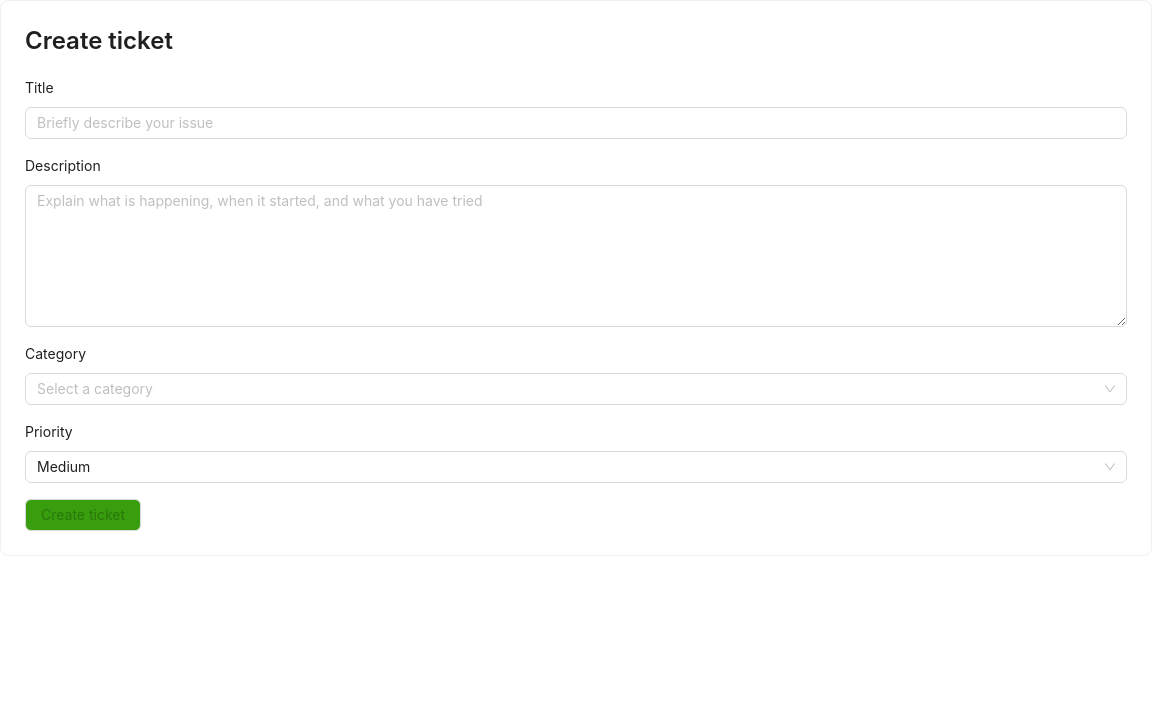
Test case: CreateTicketPage › shows a visible error when submission fails
Type "No imprime" into the field named "Title" at {"x": 576, "y": 123}, box x1=25 y1=107 x2=1127 y2=139
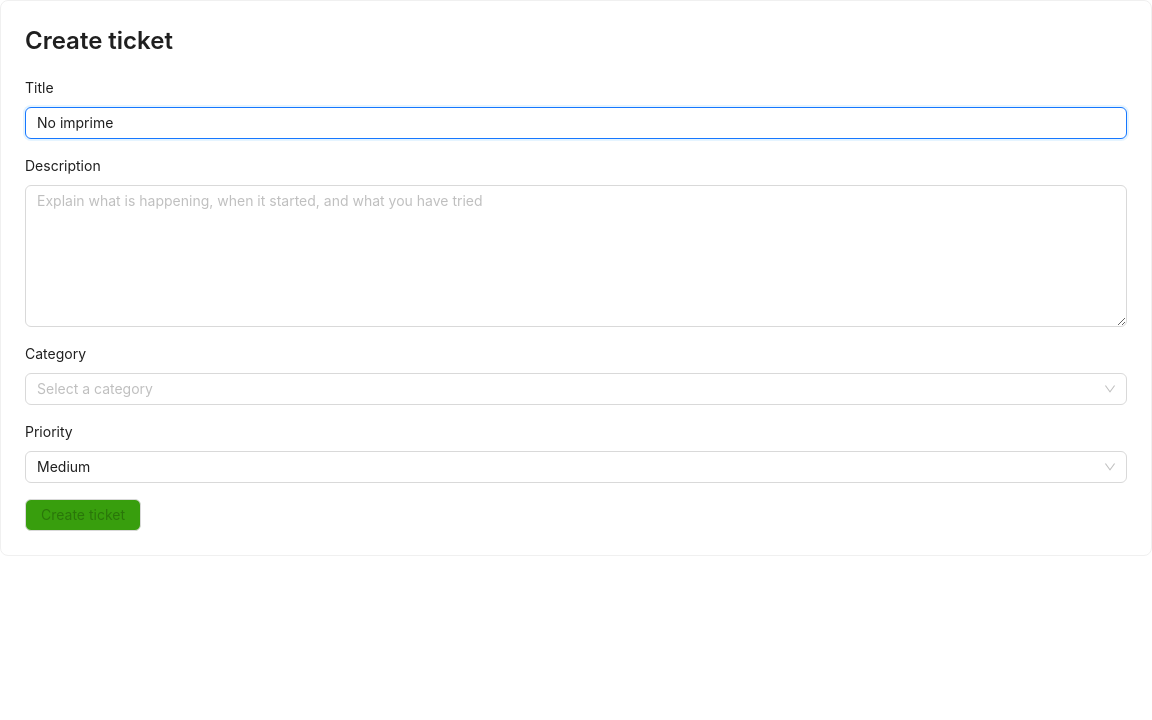
Type "Printer queue error" into the text box named "Description" at {"x": 576, "y": 256}, box x1=25 y1=185 x2=1127 y2=327
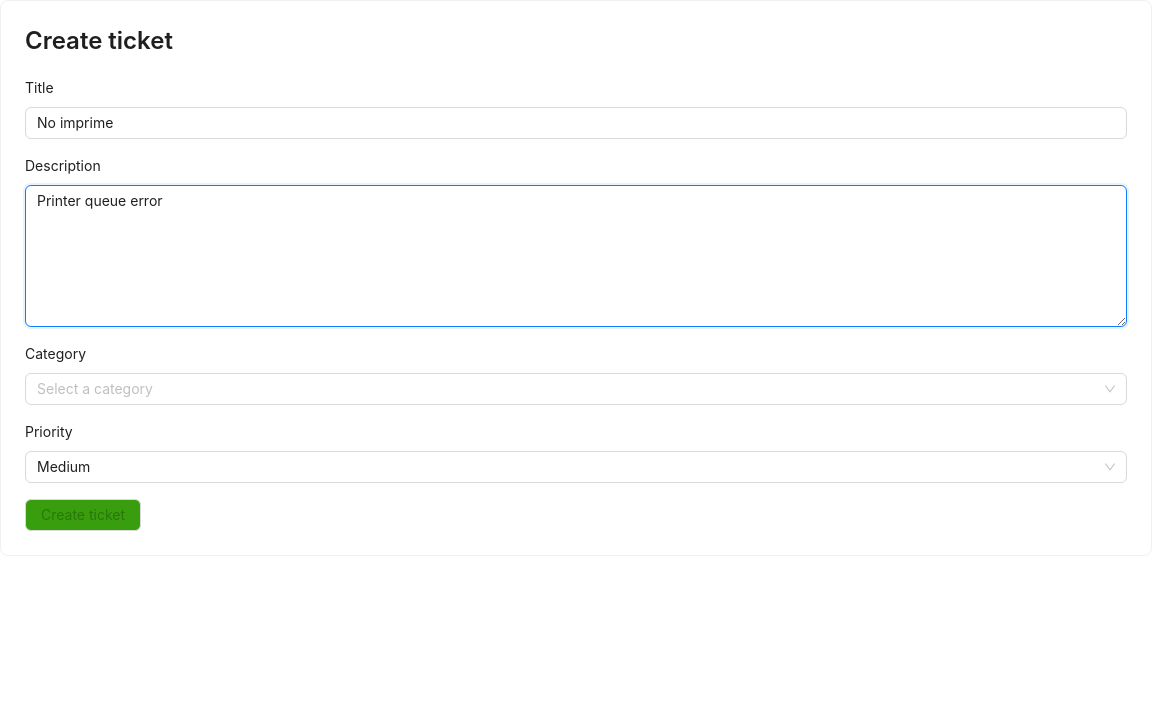
Press the mouse on the dropdown labelled "category" at {"x": 95, "y": 388}, box x1=37 y1=380 x2=153 y2=397
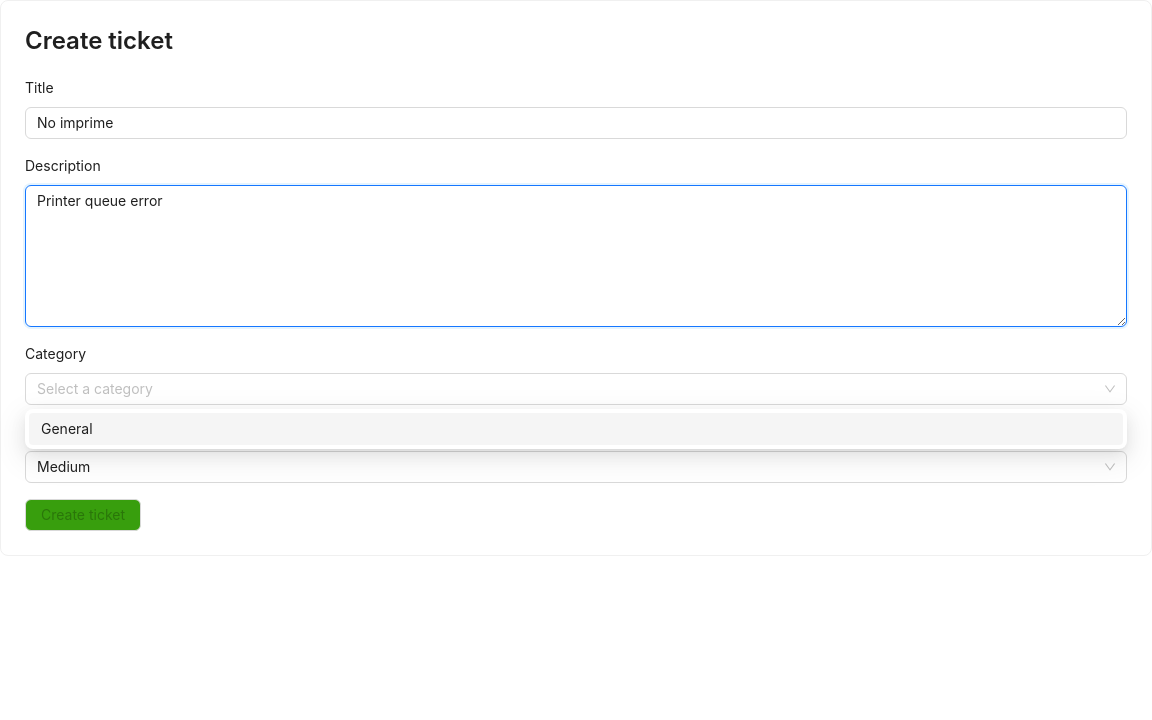
Click the text "General" at {"x": 67, "y": 428}, box x1=41 y1=420 x2=93 y2=437
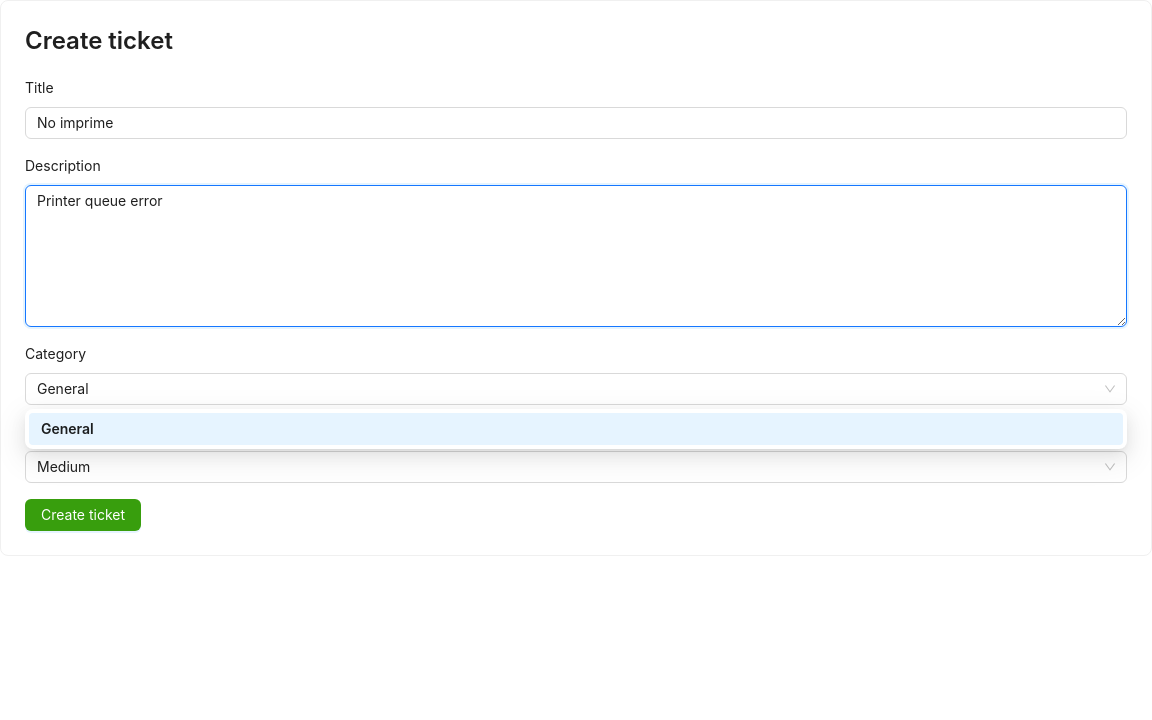
Click the button "Create ticket" at {"x": 83, "y": 515}, box x1=25 y1=499 x2=141 y2=531
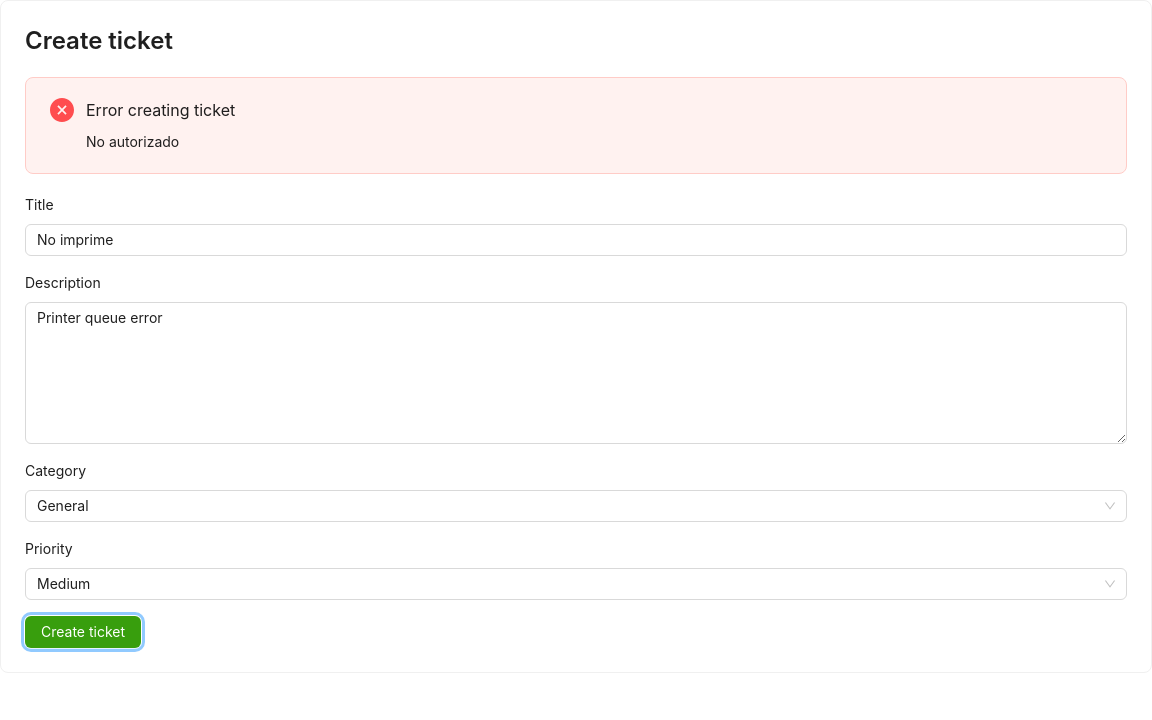
expect the text "Error creating ticket" is shown: met, box x1=86 y1=100 x2=235 y2=120
